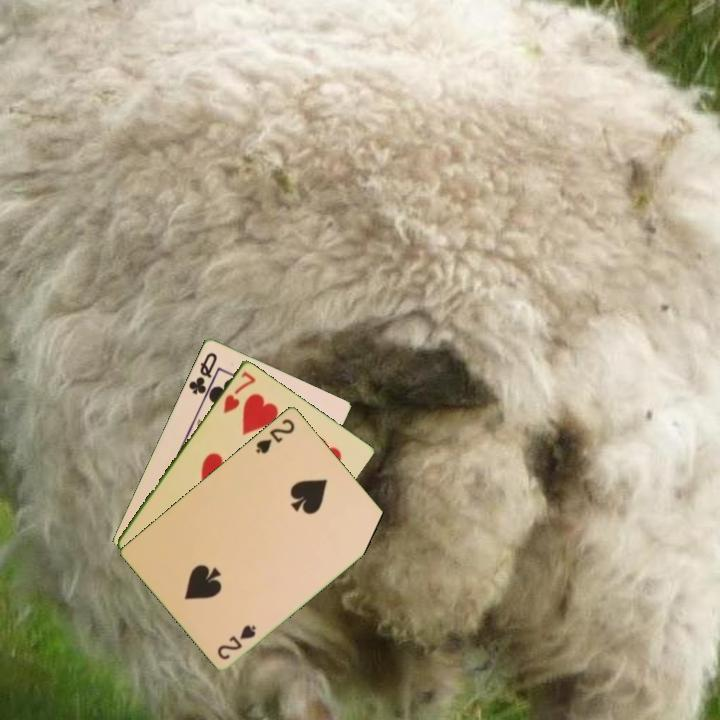2s: (252, 415, 298, 456), (214, 621, 259, 662)
7h: (220, 367, 259, 416)
Qc: (185, 348, 220, 397)
